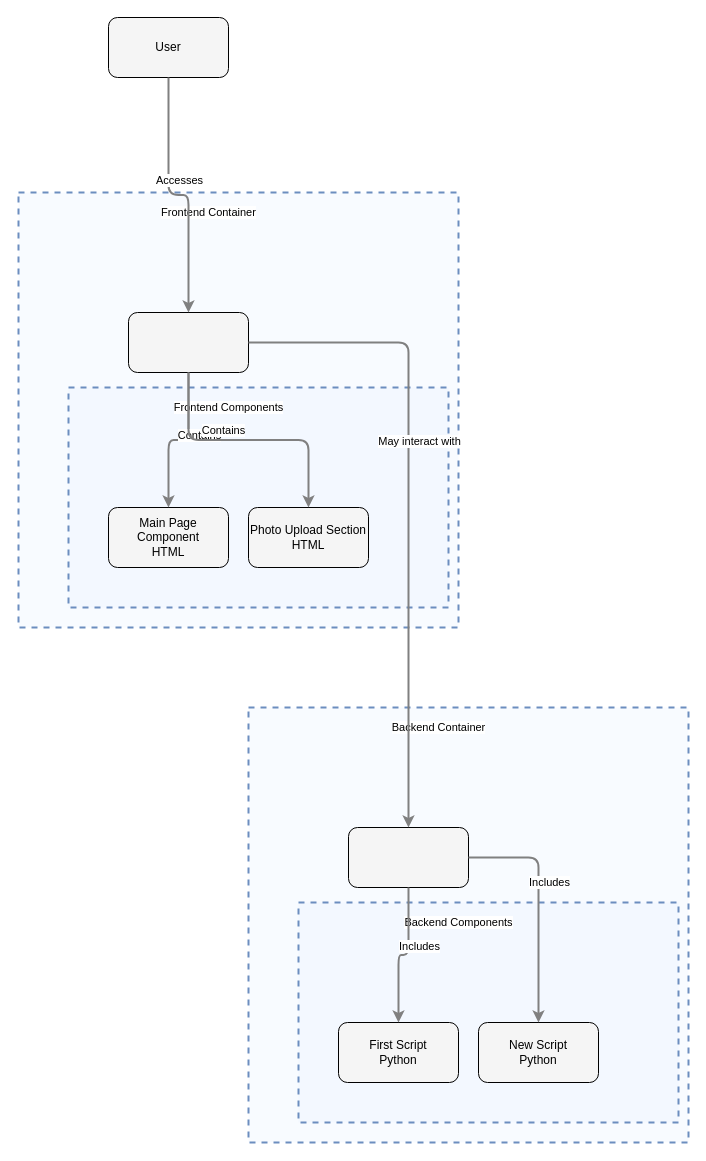
Some shapes in this 706 by 1161 pixel diagram are drawn without their labels. The centre of each missing label's shape, as x and y in pixels:
Cat Photo App UI HTML: (188,342)
Python Scripts Python: (408,857)
